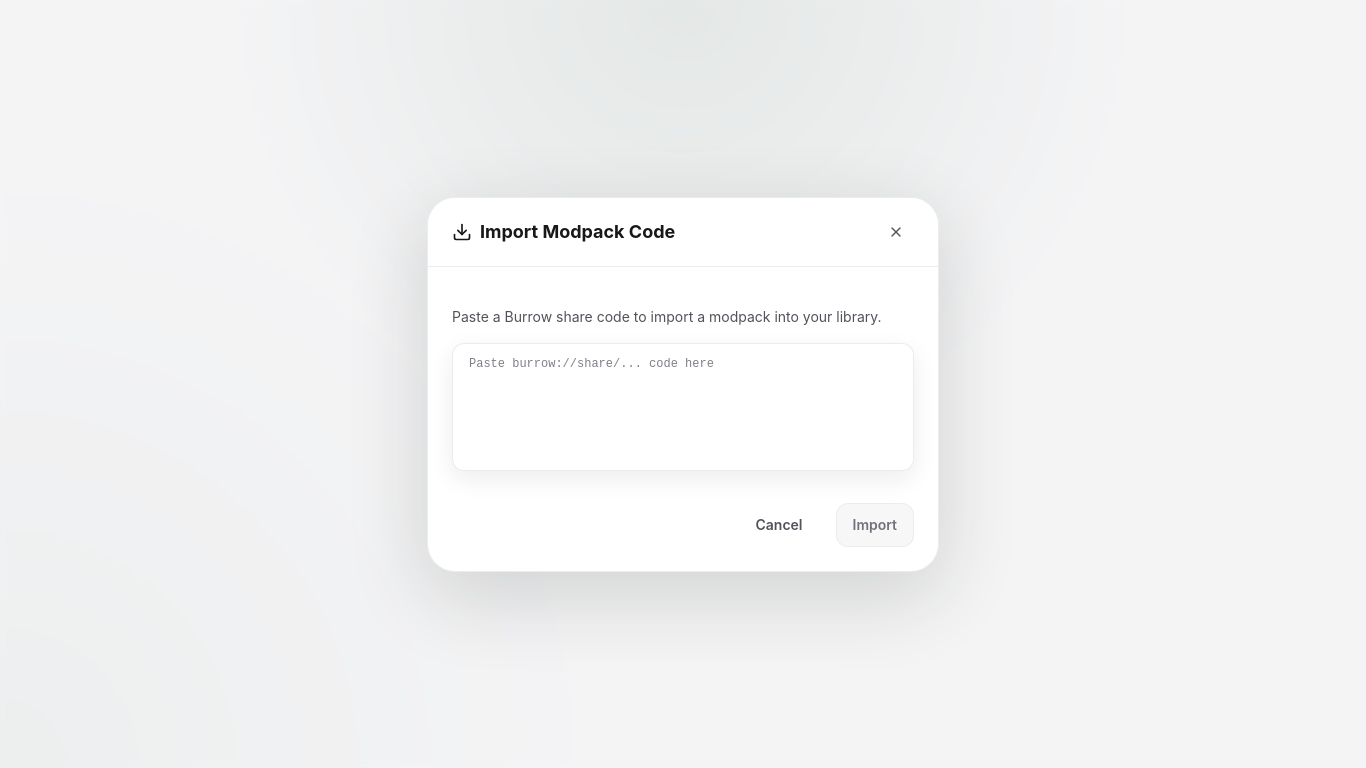
Test case: share flows › invalidates degraded share publication but keeps recovery visible without a success toast
Type "burrow://share/partial-pack" into the text box labelled "Paste burrow://share/... code here".
click(683, 406); type("burrow://share/partial-pack")  # box [452, 342, 914, 470]
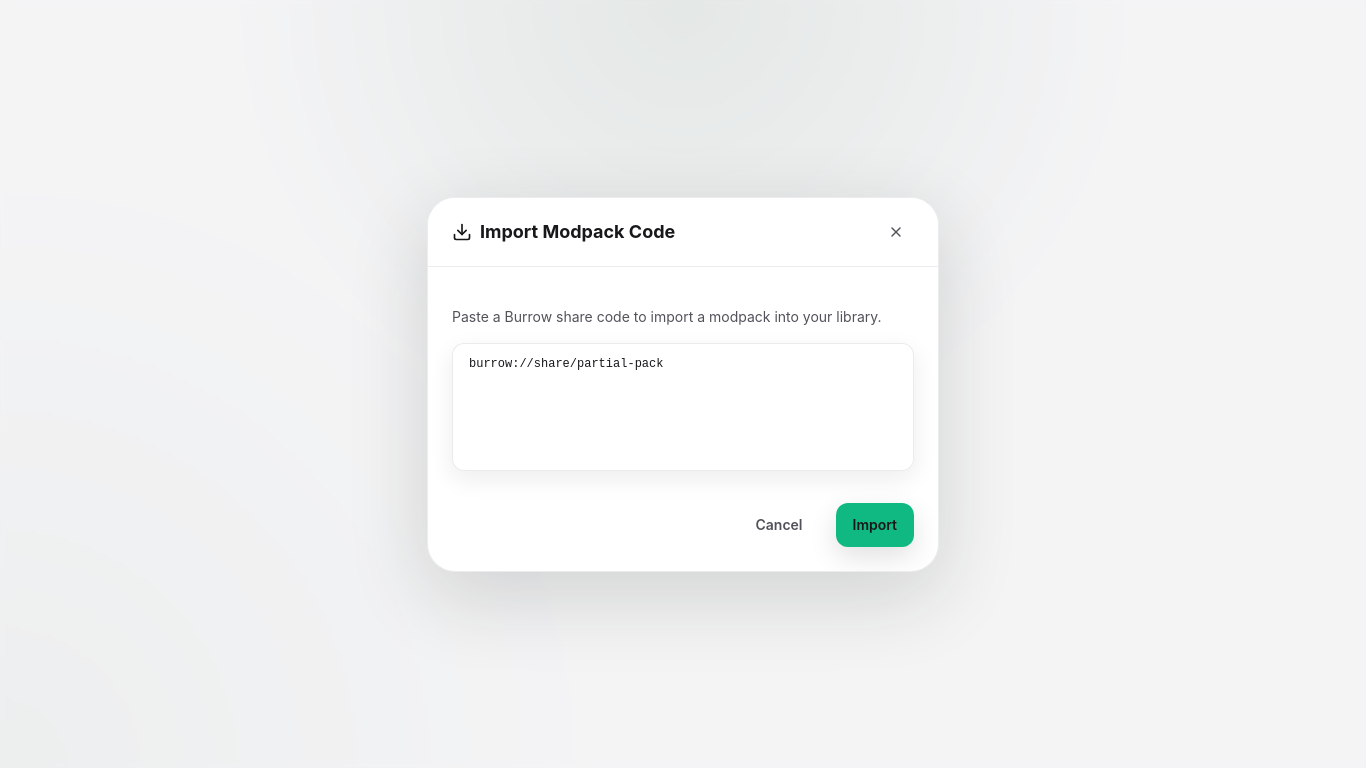
Click the button "Import".
click(875, 524)  # box [836, 502, 914, 546]
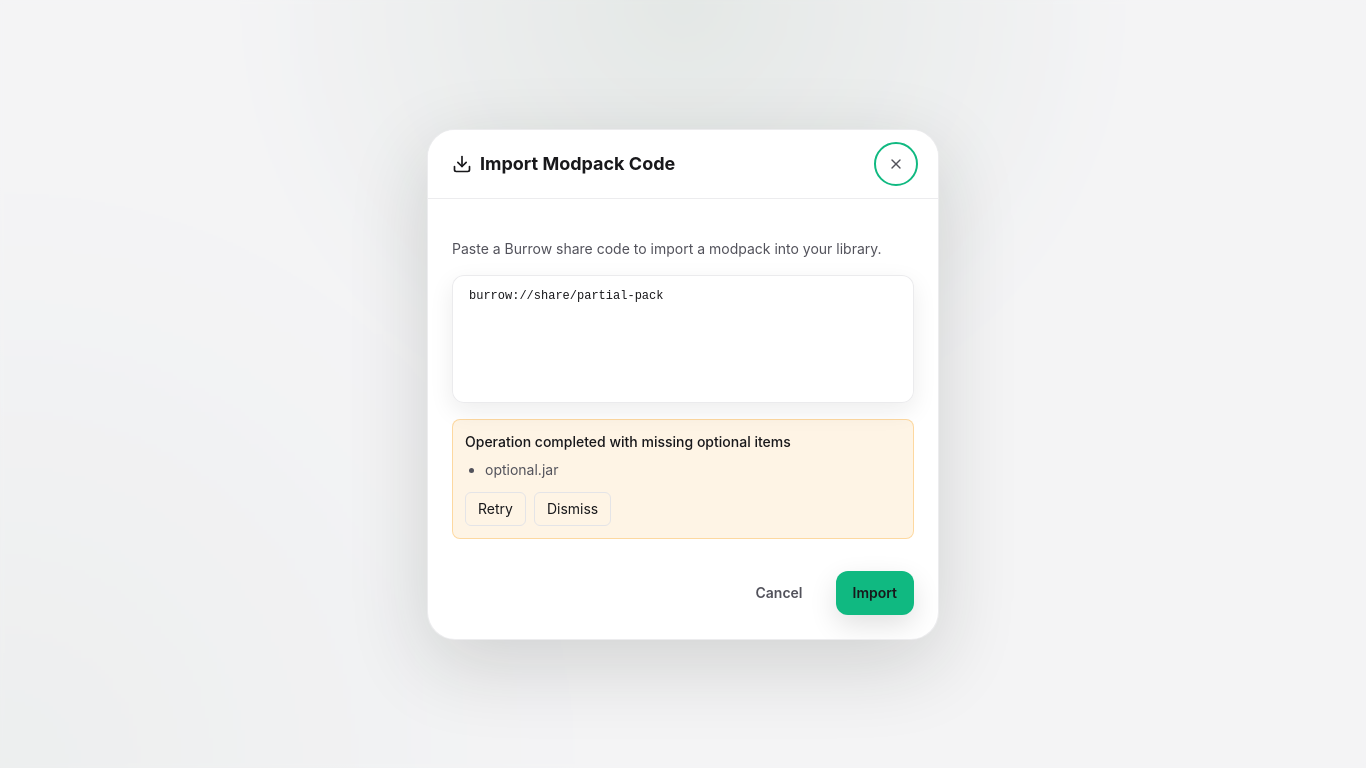
Check: the message with test id "share-import-operation-status" shows "optional.jar", box [485, 460, 558, 478]
